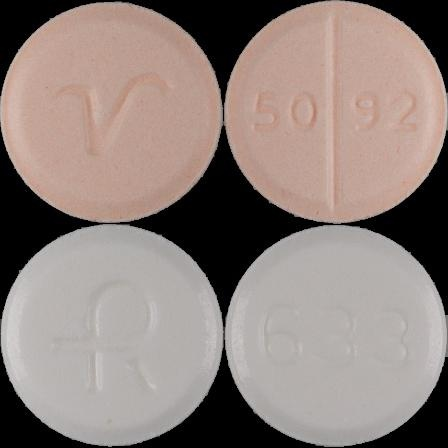68788-9179: (0, 0, 224, 224)
